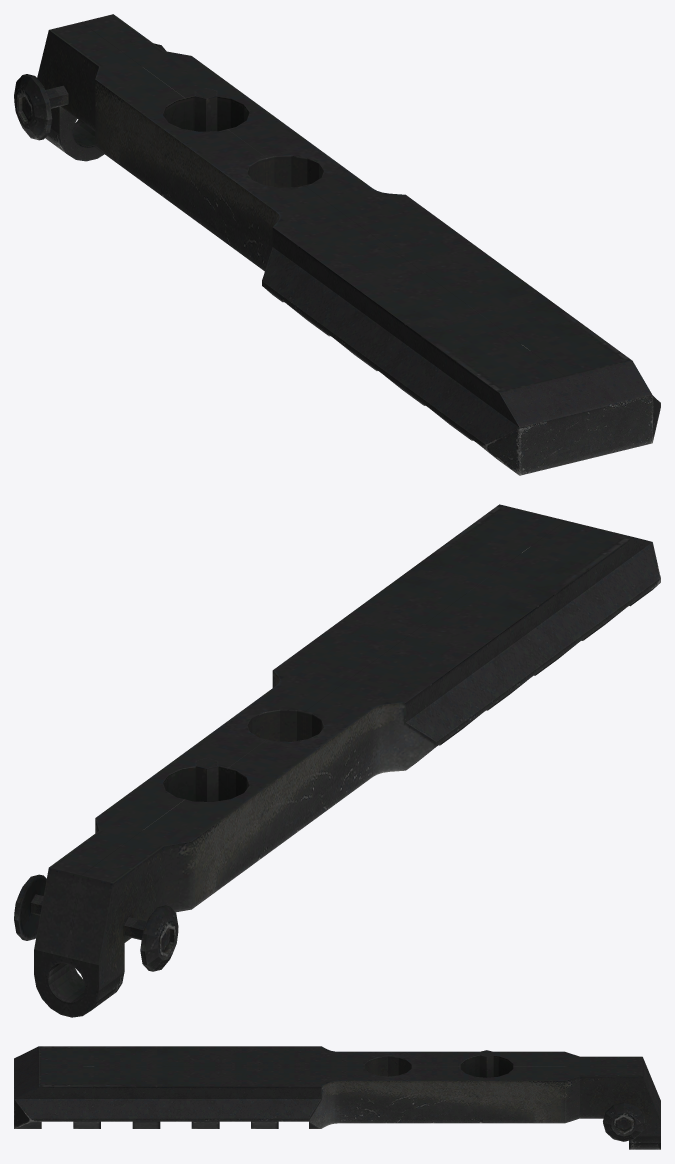
3 renders of one model, top to bottom at view 1: azimuth 30°, elevation 25°; view 2: azimuth 150°, elevation 25°; view 3: azimuth 270°, elevation 25°, orthographic. The views are drawn at different scales.
Visible parts, largest first — view 1: TW_5649d9a14bdc2d79388b4580_PZ_Import; view 2: TW_5649d9a14bdc2d79388b4580_PZ_Import; view 3: TW_5649d9a14bdc2d79388b4580_PZ_Import.
Part boxes in pixels (left/top/right/bottom): TW_5649d9a14bdc2d79388b4580_PZ_Import: left=14, top=14, right=660, bottom=475; TW_5649d9a14bdc2d79388b4580_PZ_Import: left=14, top=504, right=660, bottom=1017; TW_5649d9a14bdc2d79388b4580_PZ_Import: left=14, top=1046, right=660, bottom=1149.
Bounding box in the file's own units: 0.0122 × 0.063 × 0.0101.
1 material, 1 textured.
